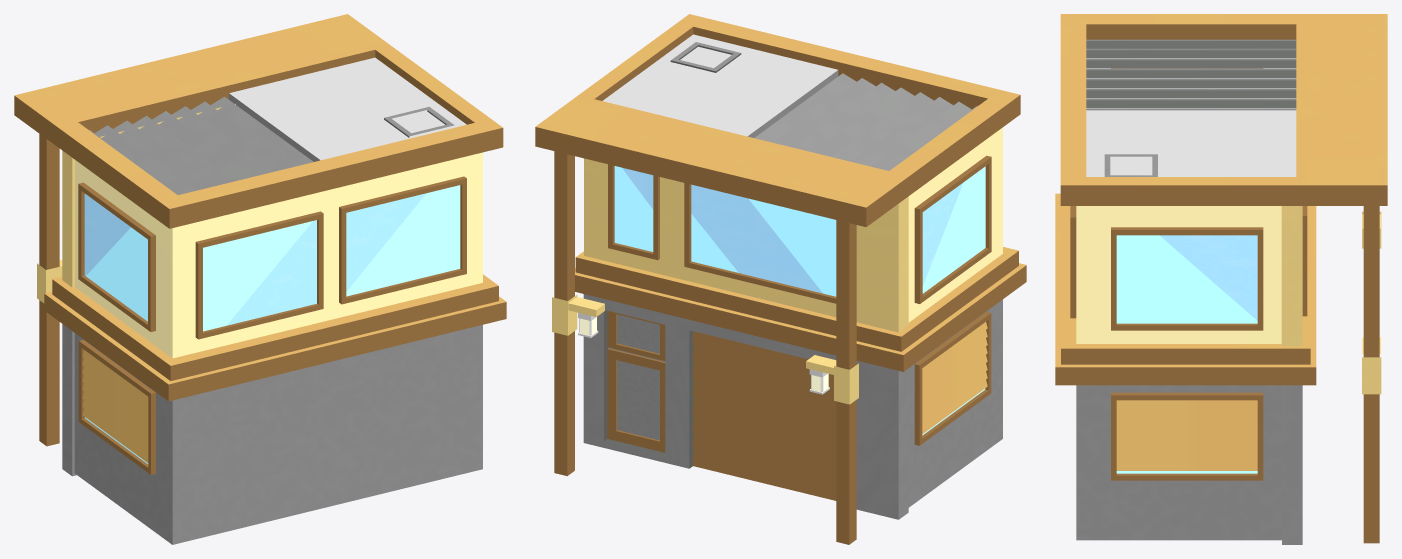
The model's file is dwelling modern.001.glb.
3 views of the same model, side by side, from view 1: azimuth 30°, elevation 25°; view 2: azimuth 150°, elevation 25°; view 3: azimuth 270°, elevation 25° (orthographic). The views are drawn at different scales.
Visible parts, largest first — view 1: dwelling modern.001(Clone); view 2: dwelling modern.001(Clone); view 3: dwelling modern.001(Clone).
Part boxes in pixels (x1,y1,x2,y2): dwelling modern.001(Clone): (14,14,506,544); dwelling modern.001(Clone): (535,14,1026,544); dwelling modern.001(Clone): (1055,14,1387,544).
Bounding box in the file's own units: 6.27 × 6.16 × 5.07.
Materials: 1 (1 with a texture image).
